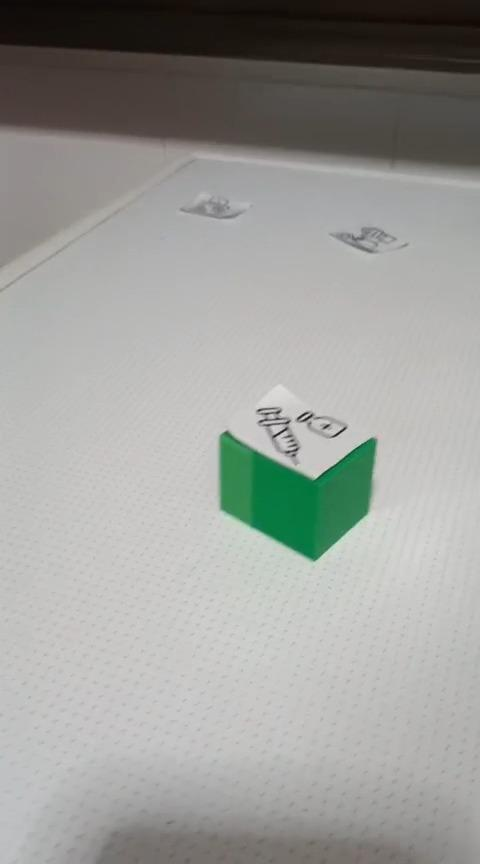antiseptic cream: (216, 382, 378, 562)
